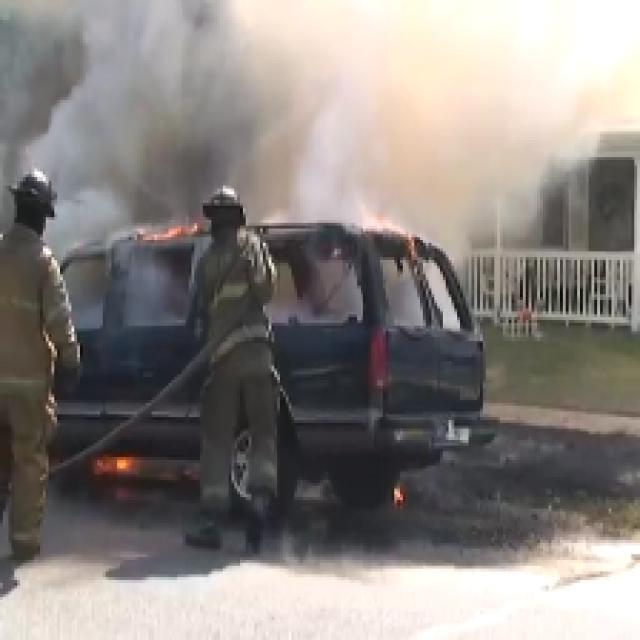Smoke: (68, 0, 606, 154)
